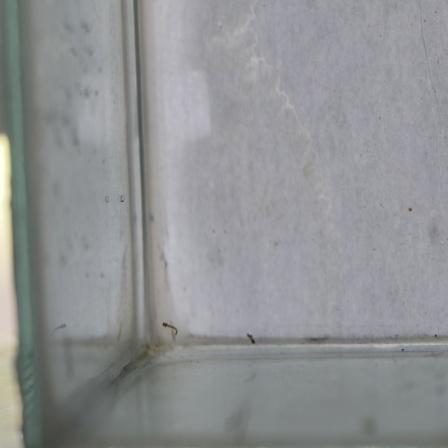Jentik-Nyamuk: (157, 319, 182, 337), (242, 329, 260, 348)
